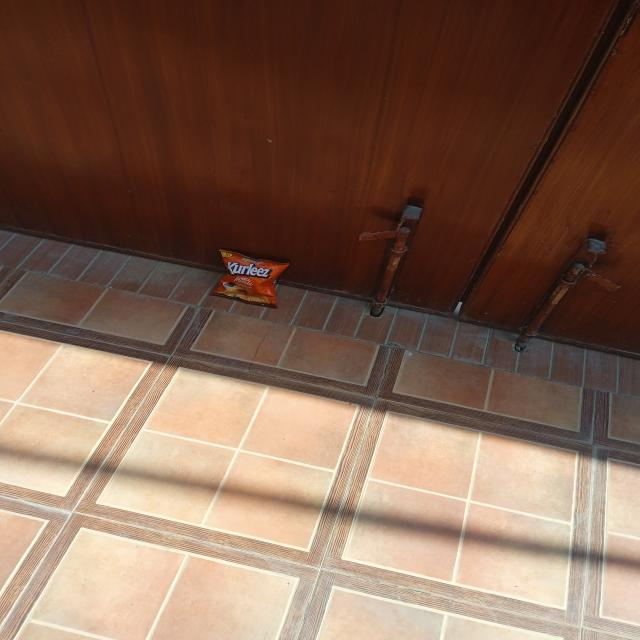Plastic: (210, 248, 292, 308)
